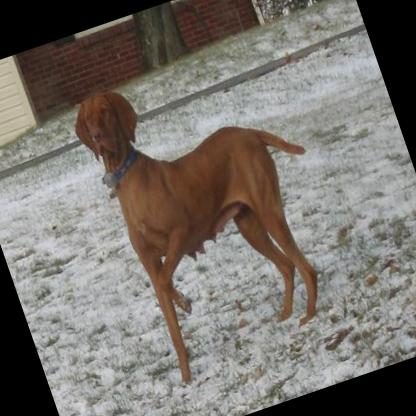vizsla: (60, 31, 366, 396)
